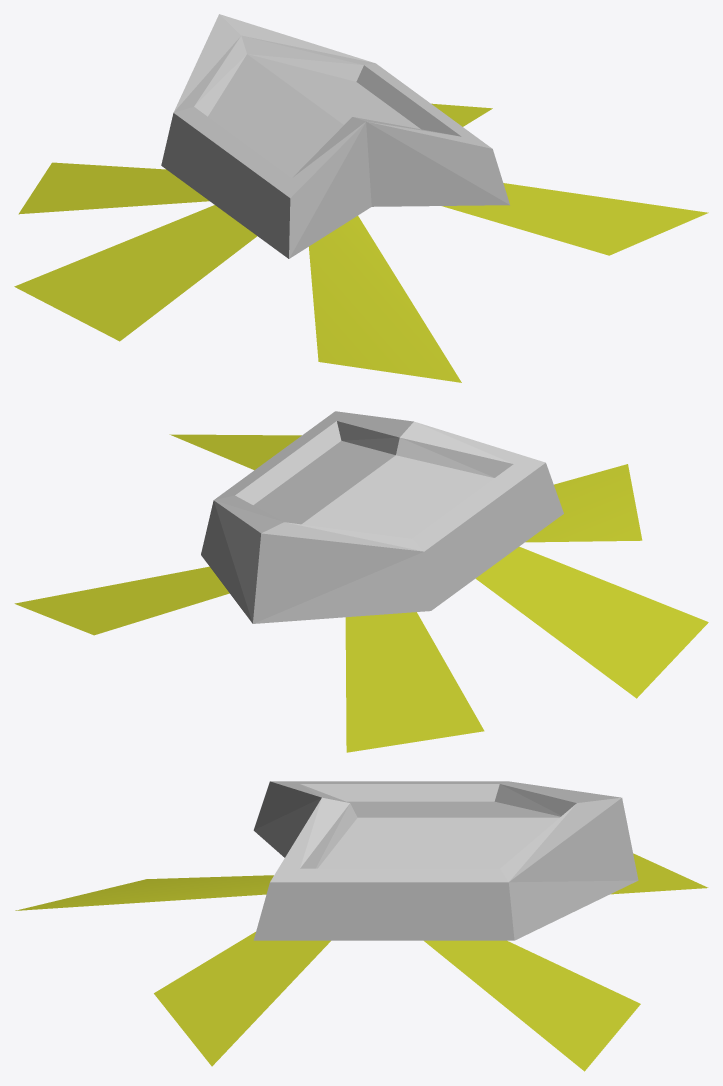
Rendered from bonus.fbx.
The picture shows the model from 3 angles, top to bottom: view 1: azimuth 30°, elevation 25°; view 2: azimuth 150°, elevation 25°; view 3: azimuth 270°, elevation 25°; orthographic projection. The views are drawn at different scales.
Parts seen in each view (by area): view 1: BousBase_Cube_001, Rays_Plane; view 2: BousBase_Cube_001, Rays_Plane; view 3: BousBase_Cube_001, Rays_Plane.
Boxes of the visible parts, <box> form: BousBase_Cube_001: <box>161,14,509,258</box>; Rays_Plane: <box>14,103,708,382</box>; BousBase_Cube_001: <box>201,411,563,623</box>; Rays_Plane: <box>14,434,708,752</box>; BousBase_Cube_001: <box>253,781,638,940</box>; Rays_Plane: <box>15,853,708,1071</box>.
Bounding box in the file's own units: 56517 × 14089 × 58210.
